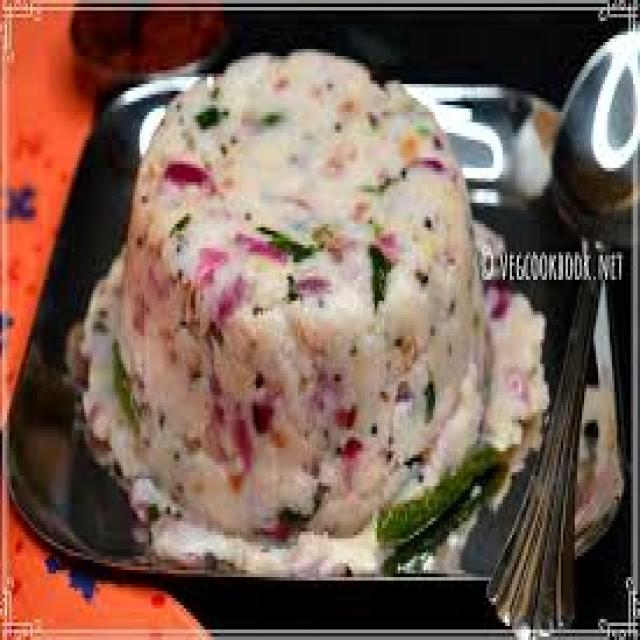UPMA: (86, 52, 533, 553)
